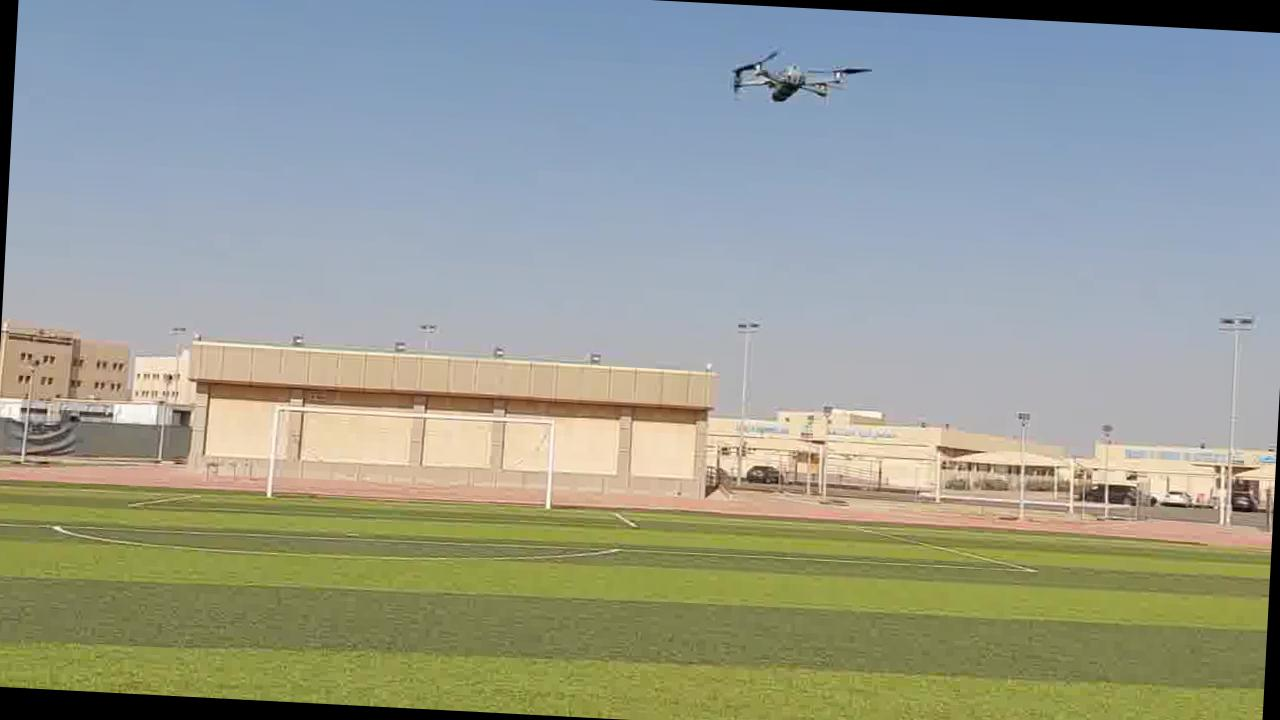drone: (712, 39, 884, 120)
